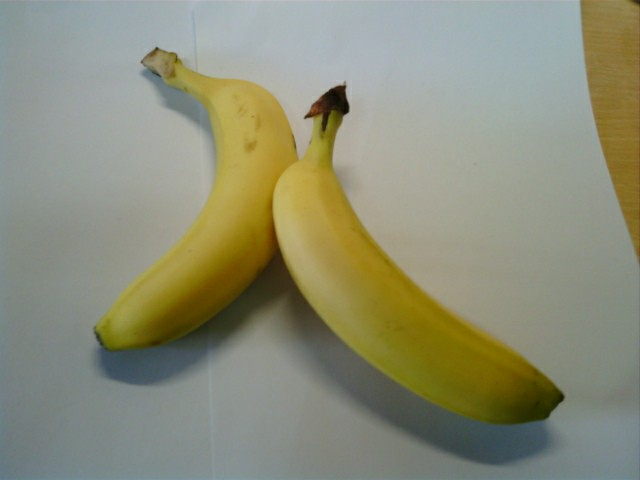fresh_banana: (272, 154, 567, 426), (91, 74, 301, 354)
